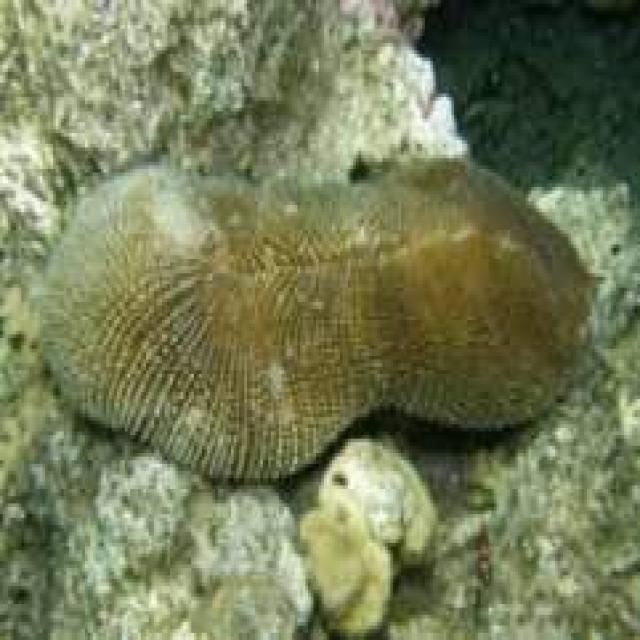Healthy Coral: (29, 153, 593, 492)
